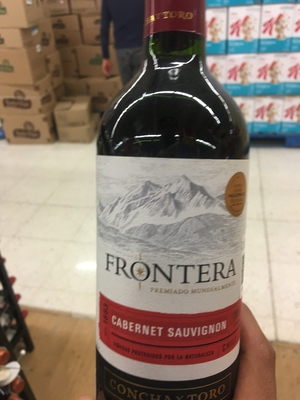frontera cabernet sauvignon: (91, 7, 249, 397)
